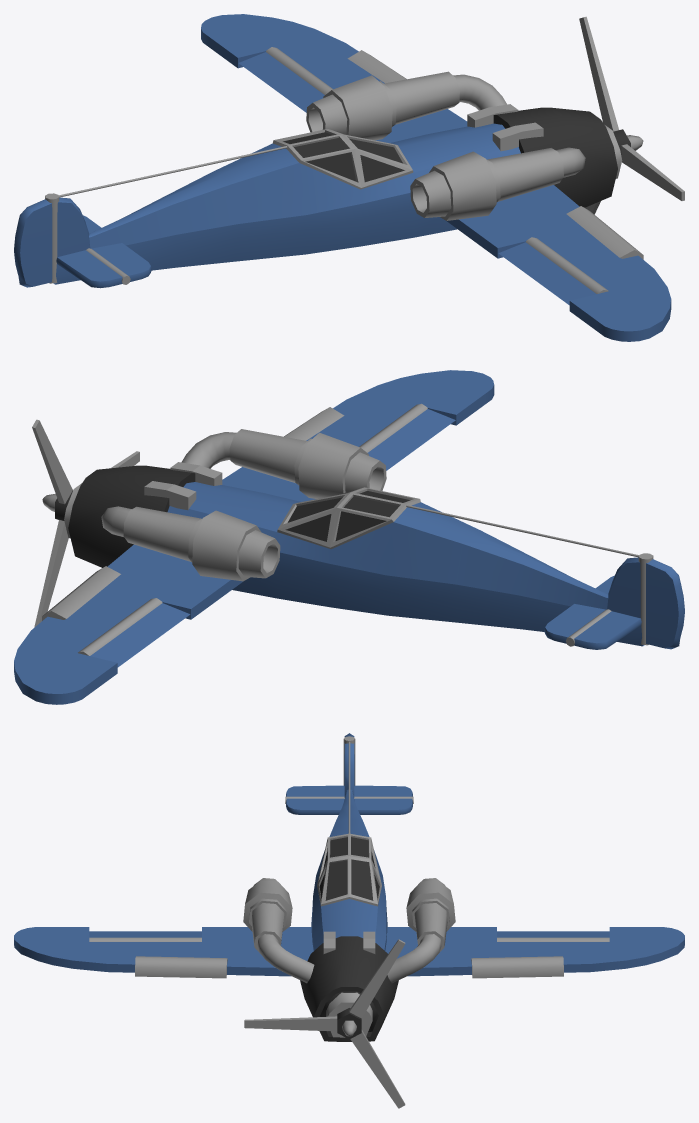
File: planeV7ProperUV.fbx
3 views of the same model, one above another, from view 1: azimuth 30°, elevation 25°; view 2: azimuth 150°, elevation 25°; view 3: azimuth 270°, elevation 25° (orthographic). The views are drawn at different scales.
Parts seen in each view (by area): view 1: PLANE_BODY.004, PLANE_BODY.003; view 2: PLANE_BODY.004, PLANE_BODY.003; view 3: PLANE_BODY.004, PLANE_BODY.003.
Boxes of the visible parts, <box> form: PLANE_BODY.004: <box>14,14,671,341</box>; PLANE_BODY.003: <box>579,16,684,214</box>; PLANE_BODY.004: <box>14,370,684,704</box>; PLANE_BODY.003: <box>32,419,139,627</box>; PLANE_BODY.004: <box>14,733,684,1041</box>; PLANE_BODY.003: <box>244,939,405,1108</box>.
Size of the model in its own units: 328 by 107 by 386.
